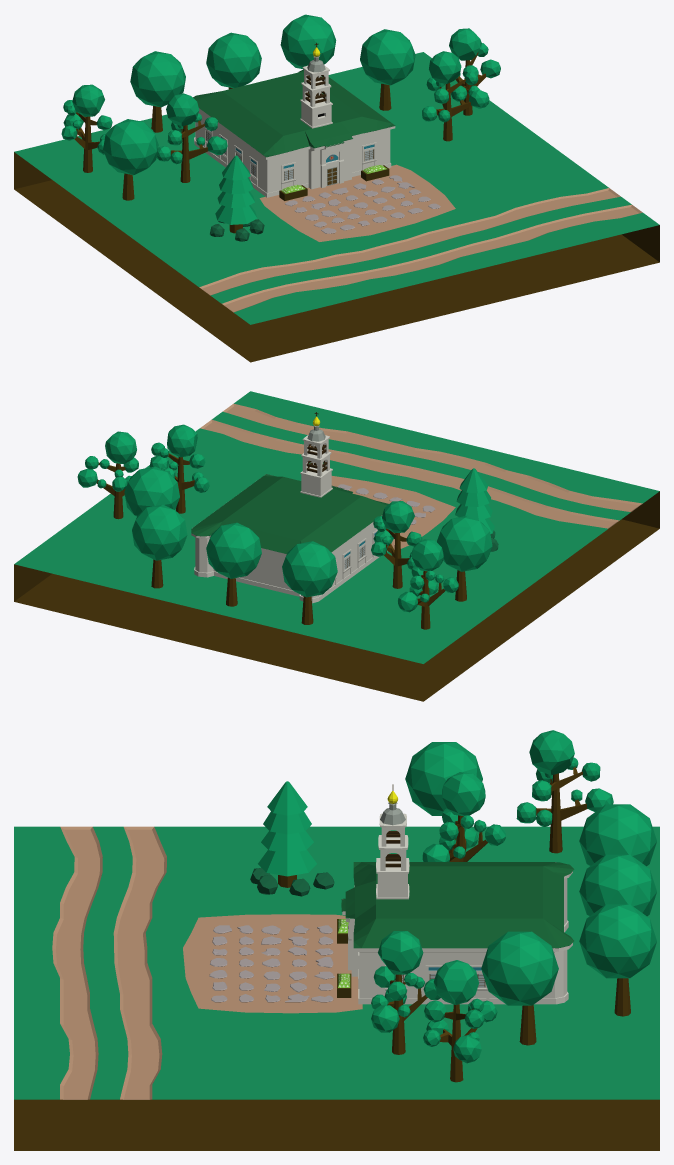
The model's file is Low_poly_church.glb.
The picture shows the model from 3 angles, top to bottom: view 1: azimuth 30°, elevation 25°; view 2: azimuth 150°, elevation 25°; view 3: azimuth 270°, elevation 25°; orthographic projection. The views are drawn at different scales.
Parts seen in each view (by area): view 1: Scene_10, Scene_9, Scene_3, Scene_12, Scene_19, Scene_5, Scene_11, Scene_21, Scene_4, Scene_1, Scene_7, Scene_2 (+4 smaller); view 2: Scene_10, Scene_9, Scene_3, Scene_12, Scene_19, Scene_5, Scene_21, Scene_4, Scene_11, Scene_7, Scene_2, Scene_18 (+2 smaller); view 3: Scene_10, Scene_9, Scene_3, Scene_12, Scene_19, Scene_5, Scene_11, Scene_21, Scene_1, Scene_7, Scene_4, Scene_18 (+3 smaller).
Part boxes in pixels (x1,y1,x2,y2): Scene_10: [14, 52, 659, 324]; Scene_9: [14, 152, 659, 362]; Scene_3: [103, 14, 415, 175]; Scene_12: [199, 188, 642, 312]; Scene_19: [193, 69, 395, 157]; Scene_5: [61, 28, 500, 164]; Scene_11: [259, 164, 455, 241]; Scene_21: [194, 108, 395, 197]; Scene_4: [74, 52, 486, 182]; Scene_1: [285, 175, 440, 233]; Scene_7: [215, 155, 257, 224]; Scene_2: [122, 83, 391, 200]; Scene_10: [14, 391, 659, 663]; Scene_9: [14, 491, 659, 701]; Scene_3: [124, 466, 492, 597]; Scene_12: [200, 403, 642, 528]; Scene_19: [191, 474, 388, 553]; Scene_5: [77, 424, 458, 612]; Scene_21: [191, 486, 387, 603]; Scene_4: [96, 453, 445, 629]; Scene_11: [331, 476, 455, 549]; Scene_7: [455, 468, 494, 533]; Scene_2: [151, 559, 466, 624]; Scene_18: [300, 467, 332, 497]; Scene_10: [14, 826, 659, 1099]; Scene_9: [14, 1099, 659, 1150]; Scene_3: [405, 742, 656, 1005]; Scene_12: [52, 826, 166, 1099]; Scene_19: [341, 862, 574, 948]; Scene_5: [371, 730, 613, 1063]; Scene_11: [183, 914, 362, 1013]; Scene_21: [342, 862, 572, 1004]; Scene_1: [209, 925, 334, 1002]; Scene_7: [258, 781, 316, 876]; Scene_4: [387, 767, 587, 1082]; Scene_18: [376, 858, 409, 899].
Bounding box in the file's own units: 927 × 359 × 915.
31 materials, 31 textured.
